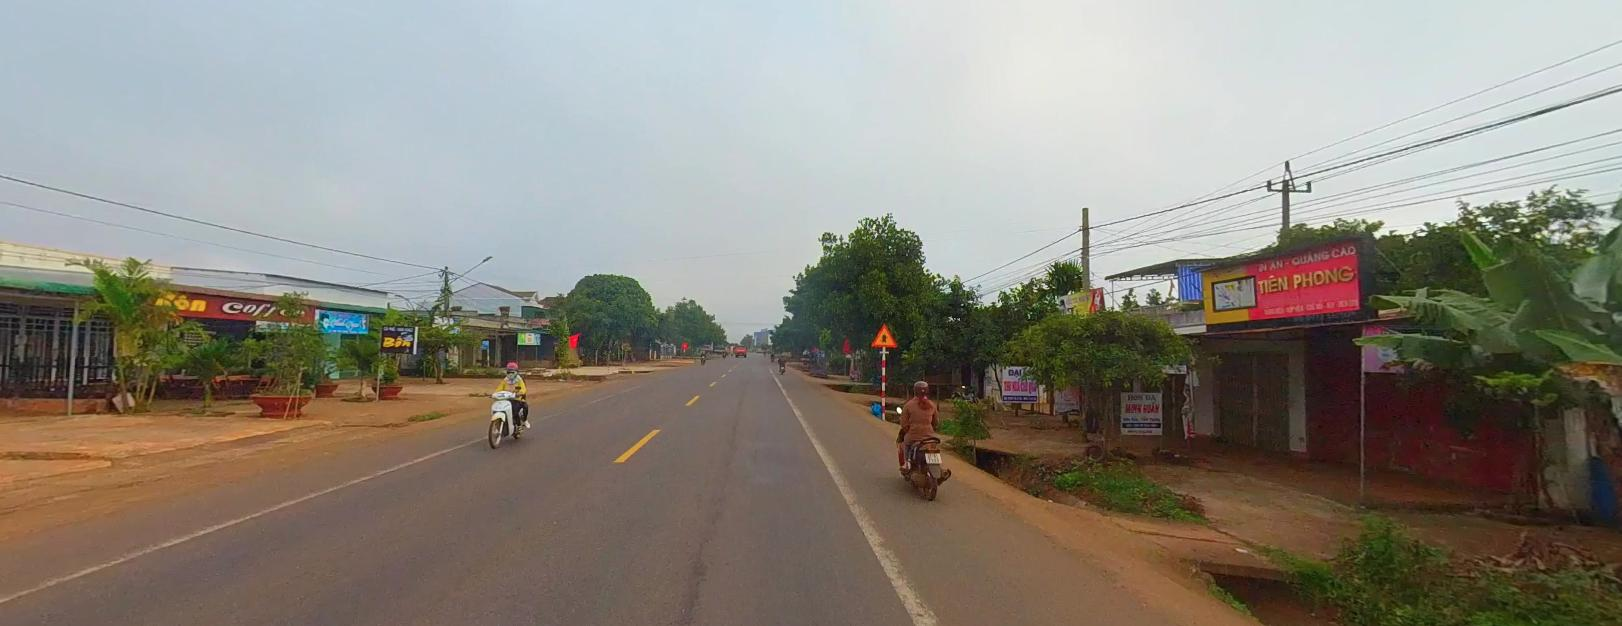Nguy hiem: (871, 322, 897, 345)
